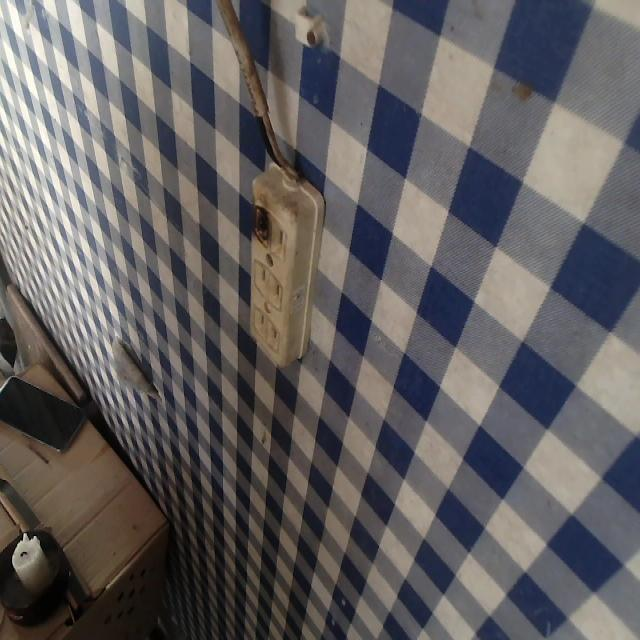-: (244, 198, 273, 245)
